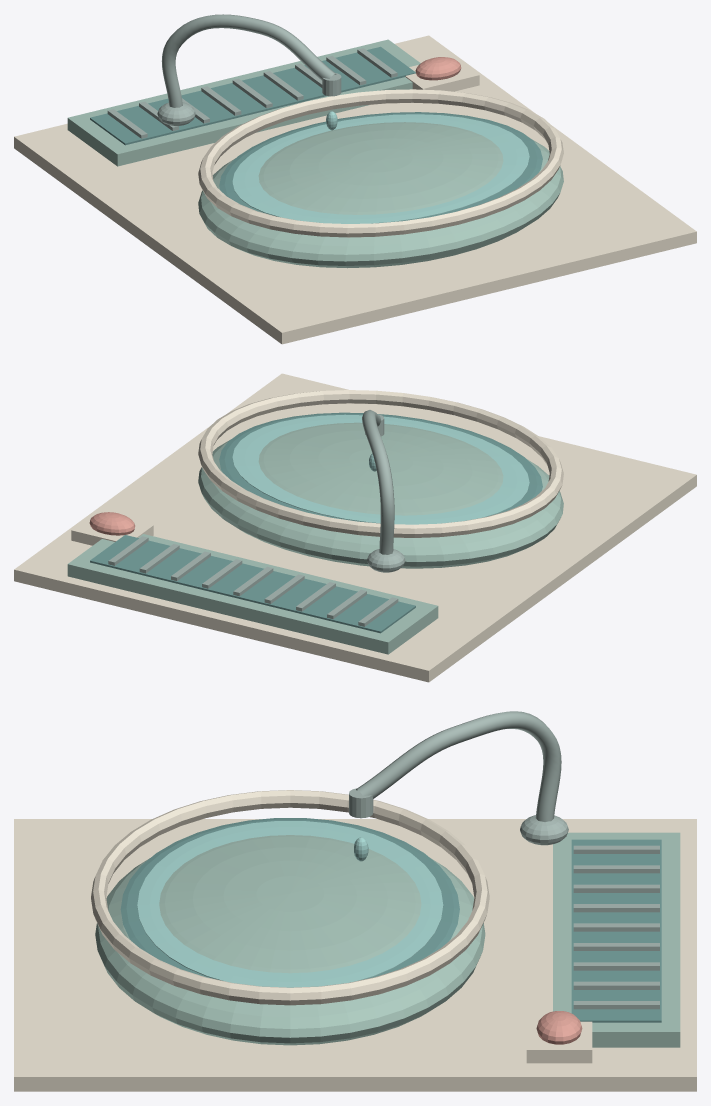
The model's file is park_cafe_wash_basin.glb.
The picture shows the model from 3 angles, top to bottom: view 1: azimuth 30°, elevation 25°; view 2: azimuth 150°, elevation 25°; view 3: azimuth 270°, elevation 25°; orthographic projection. The views are drawn at different scales.
Visible parts, largest first — view 1: one_piece_sink_mount, rounded_basin_outer_body, rolled_celadon_basin_rim, visible_shallow_water, rear_draining_dark_inset, rear_draining_tray, continuous_swan_neck_faucet, inset_basin_shadow, rounded_soap_dish, soft_coral_soap, swan_neck_base; view 2: one_piece_sink_mount, rounded_basin_outer_body, rolled_celadon_basin_rim, rear_draining_tray, rear_draining_dark_inset, visible_shallow_water, inset_basin_shadow, continuous_swan_neck_faucet, rounded_soap_dish, soft_coral_soap, swan_neck_base; view 3: one_piece_sink_mount, rounded_basin_outer_body, rolled_celadon_basin_rim, visible_shallow_water, rear_draining_dark_inset, rear_draining_tray, continuous_swan_neck_faucet, inset_basin_shadow, rounded_soap_dish, soft_coral_soap, swan_neck_base, drainage_rib_4 (+9 smaller).
Part boxes in pixels (left/top/right/bottom): one_piece_sink_mount: left=14, top=35, right=696, bottom=344; rounded_basin_outer_body: left=198, top=122, right=563, bottom=268; rolled_celadon_basin_rim: left=198, top=89, right=563, bottom=237; visible_shallow_water: left=232, top=114, right=529, bottom=223; rear_draining_dark_inset: left=90, top=46, right=415, bottom=145; rear_draining_tray: left=67, top=39, right=420, bottom=166; continuous_swan_neck_faucet: left=161, top=14, right=336, bottom=107; inset_basin_shadow: left=219, top=112, right=542, bottom=221; rounded_soap_dish: left=405, top=56, right=479, bottom=91; soft_coral_soap: left=415, top=57, right=461, bottom=80; swan_neck_base: left=157, top=102, right=195, bottom=126; one_piece_sink_mount: left=14, top=373, right=696, bottom=682; rounded_basin_outer_body: left=198, top=422, right=563, bottom=568; rolled_celadon_basin_rim: left=198, top=390, right=563, bottom=537; rear_draining_tray: left=67, top=534, right=438, bottom=654; rear_draining_dark_inset: left=90, top=535, right=415, bottom=633; visible_shallow_water: left=232, top=414, right=529, bottom=524; inset_basin_shadow: left=219, top=412, right=542, bottom=522; continuous_swan_neck_faucet: left=362, top=410, right=394, bottom=554; rounded_soap_dish: left=71, top=511, right=153, bottom=545; soft_coral_soap: left=89, top=512, right=135, bottom=535; swan_neck_base: left=367, top=549, right=405, bottom=572; one_piece_sink_mount: left=14, top=819, right=696, bottom=1091; rounded_basin_outer_body: left=95, top=835, right=485, bottom=1045; rolled_celadon_basin_rim: left=91, top=790, right=489, bottom=1005; visible_shallow_water: left=137, top=821, right=443, bottom=987; rear_draining_dark_inset: left=571, top=839, right=661, bottom=1022; rear_draining_tray: left=553, top=832, right=680, bottom=1047; continuous_swan_neck_faucet: left=356, top=711, right=561, bottom=821; inset_basin_shadow: left=120, top=818, right=459, bottom=979; rounded_soap_dish: left=526, top=1014, right=592, bottom=1063; soft_coral_soap: left=536, top=1011, right=582, bottom=1044; swan_neck_base: left=520, top=815, right=568, bottom=845; drainage_rib_4: left=573, top=923, right=659, bottom=931.
Bounding box in the file's own units: 1.94 × 0.7579 × 2.17.
